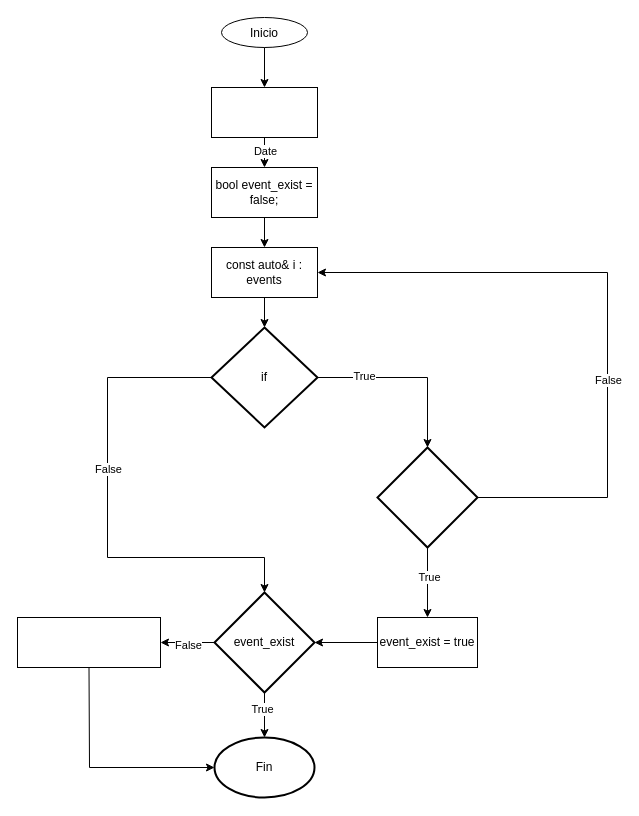
The diagram is 639 pixels wide and 816 high, and some of its shapes have lost their labels. Here are the shapes that lost their labels. From the top down, the centre of each, then its label:
point 264,112: void add(string date, string event);
point 427,497: i == event
point 88,642: events.push_back(event)
